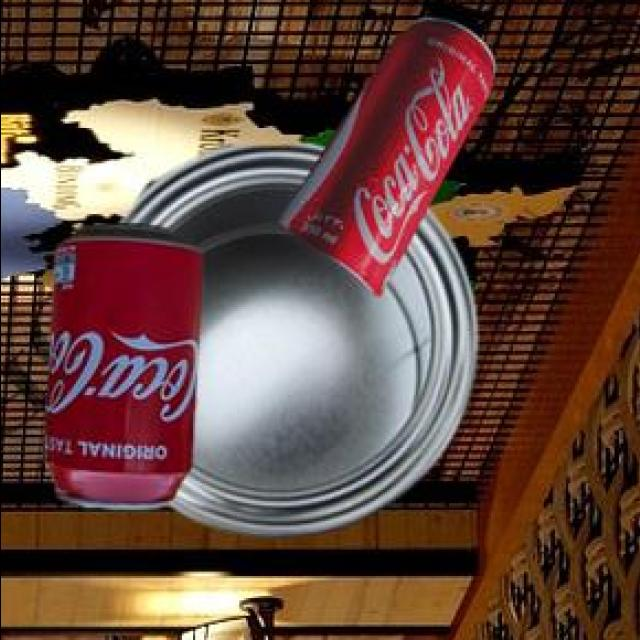logam: (122, 140, 480, 531), (281, 14, 498, 292), (47, 222, 206, 506)
